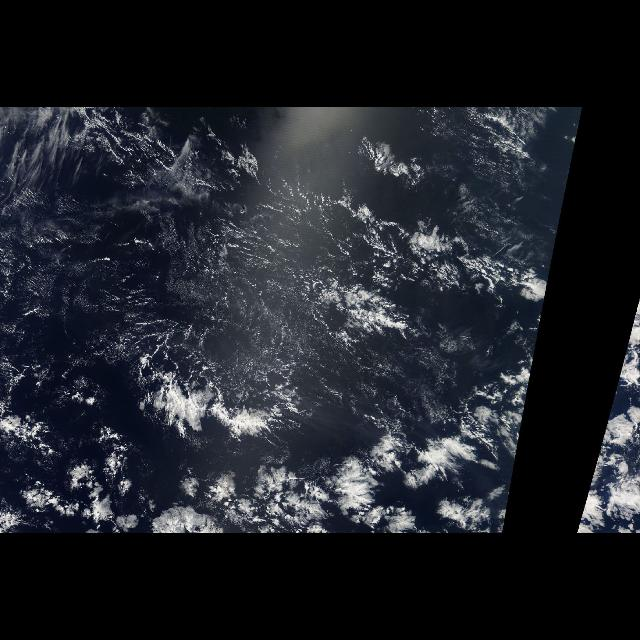Flower: (194, 462, 471, 534)
Gravel: (336, 208, 558, 366)
Sugar: (1, 118, 352, 378), (425, 108, 569, 252)
